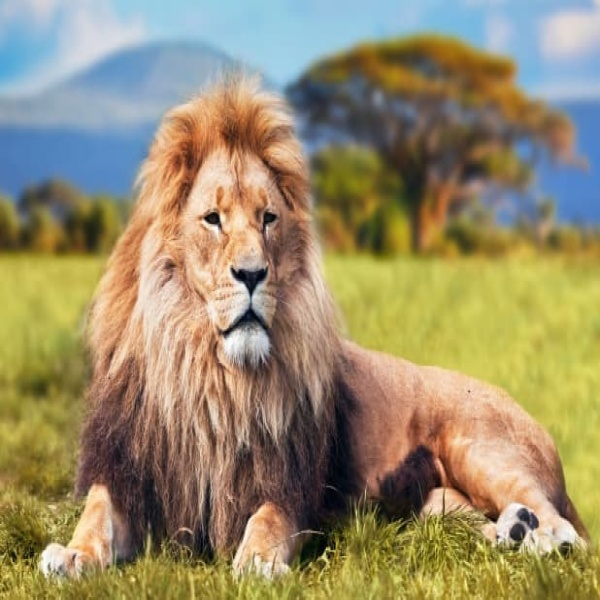Lion: (36, 74, 593, 595)
